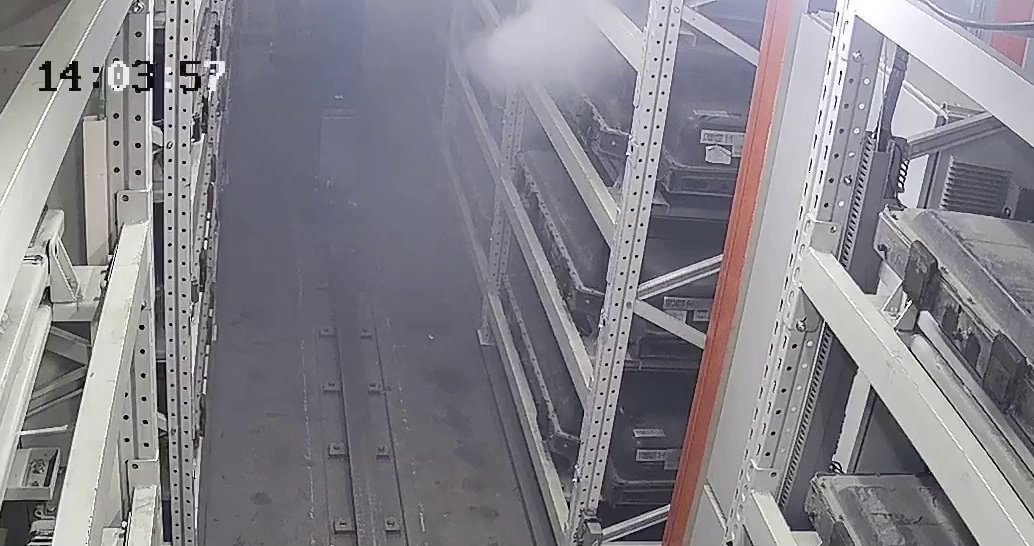smoke: (470, 11, 600, 103)
